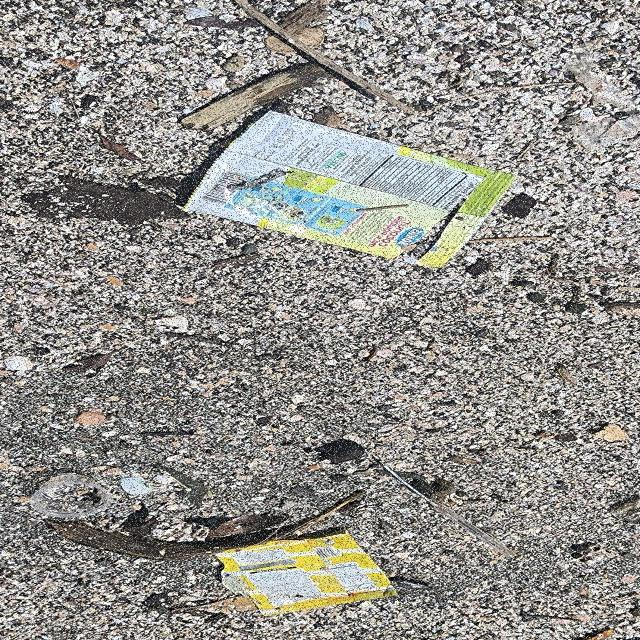plastic_waste: (180, 110, 516, 270), (215, 531, 400, 618), (31, 475, 113, 519)
